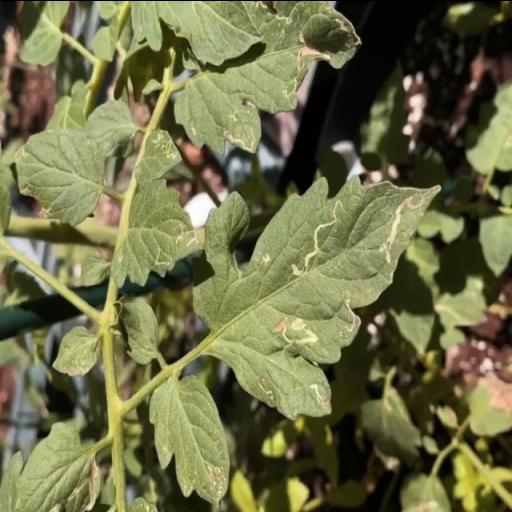Leaf Miner: (192, 172, 444, 418)
